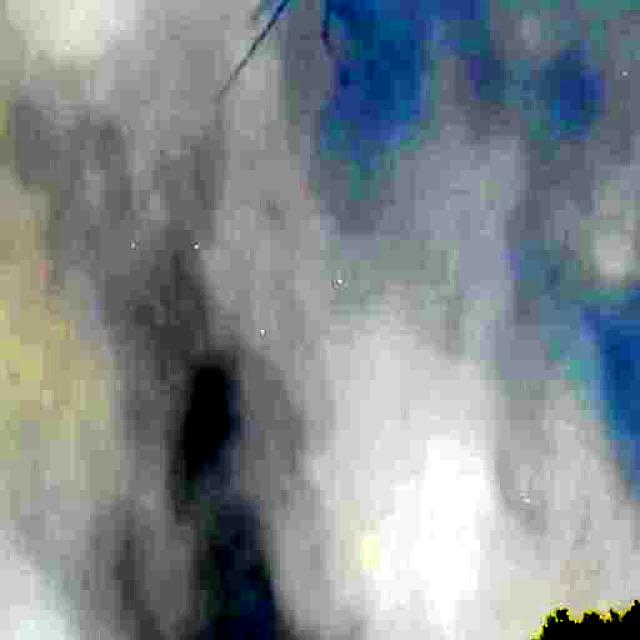drone: (221, 0, 398, 105)
